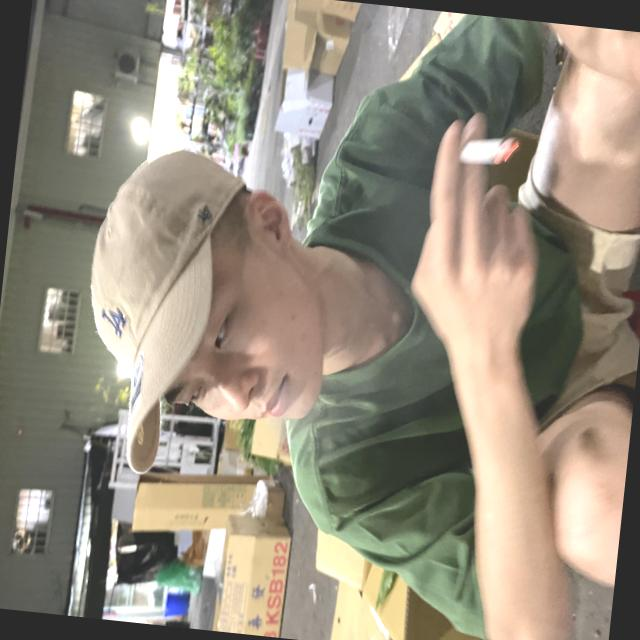cigarette: (438, 111, 536, 186)
